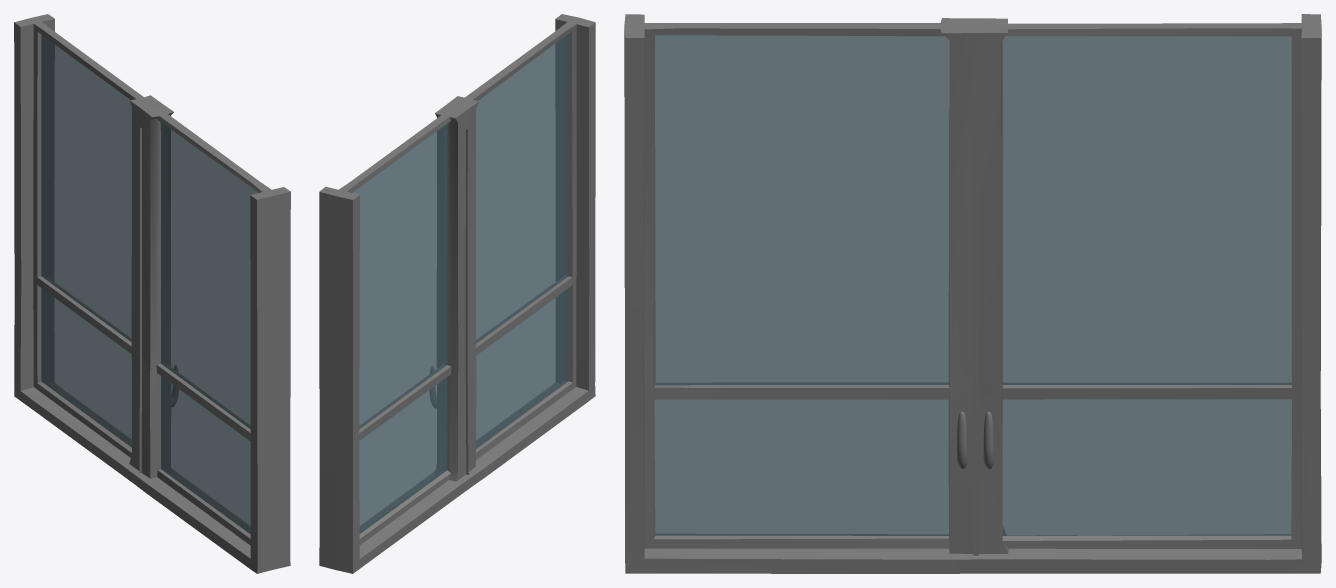
Rendered from WindowSchoolHallway.fbx.
3 views of the same model, side by side, from view 1: azimuth 30°, elevation 25°; view 2: azimuth 150°, elevation 25°; view 3: azimuth 270°, elevation 25° (orthographic). The views are drawn at different scales.
Parts seen in each view (by area): view 1: WindowSchoolHallway; view 2: WindowSchoolHallway; view 3: WindowSchoolHallway.
Boxes of the visible parts, x1,y1,x2,y2 form: WindowSchoolHallway: (14, 14, 290, 573); WindowSchoolHallway: (319, 14, 595, 573); WindowSchoolHallway: (624, 14, 1321, 573).
Size of the model in its own units: 16.06 by 146 by 172.
